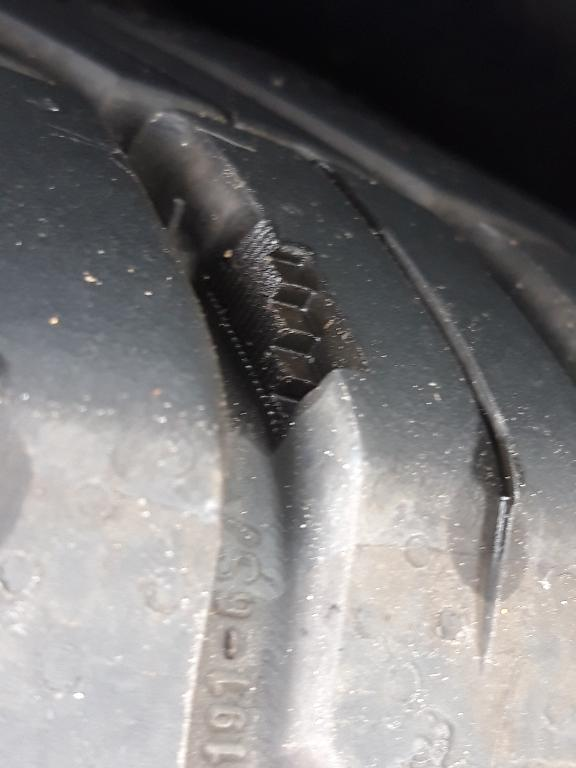temoin:90: (205, 213, 380, 451)
